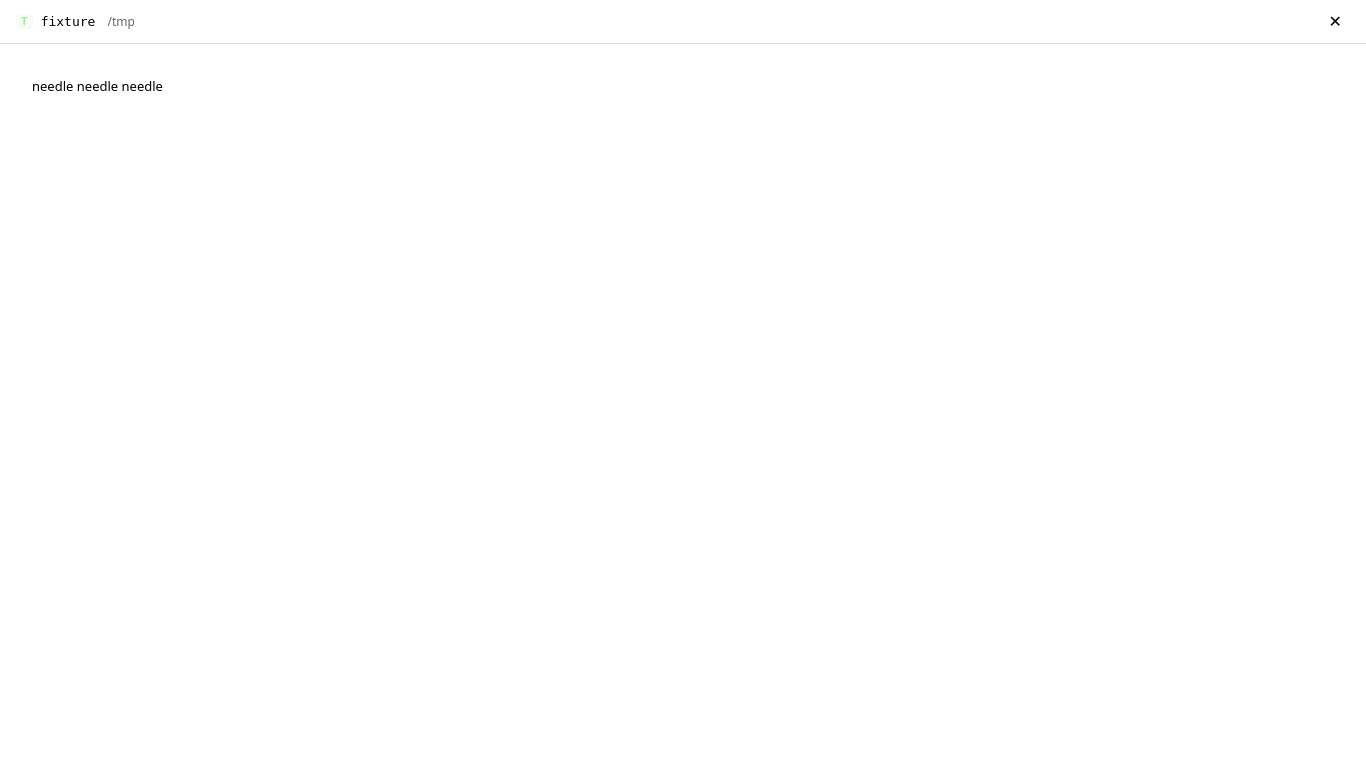
Test: App keyboard handling › preserves native Enter activation on focused .search-next
Press f
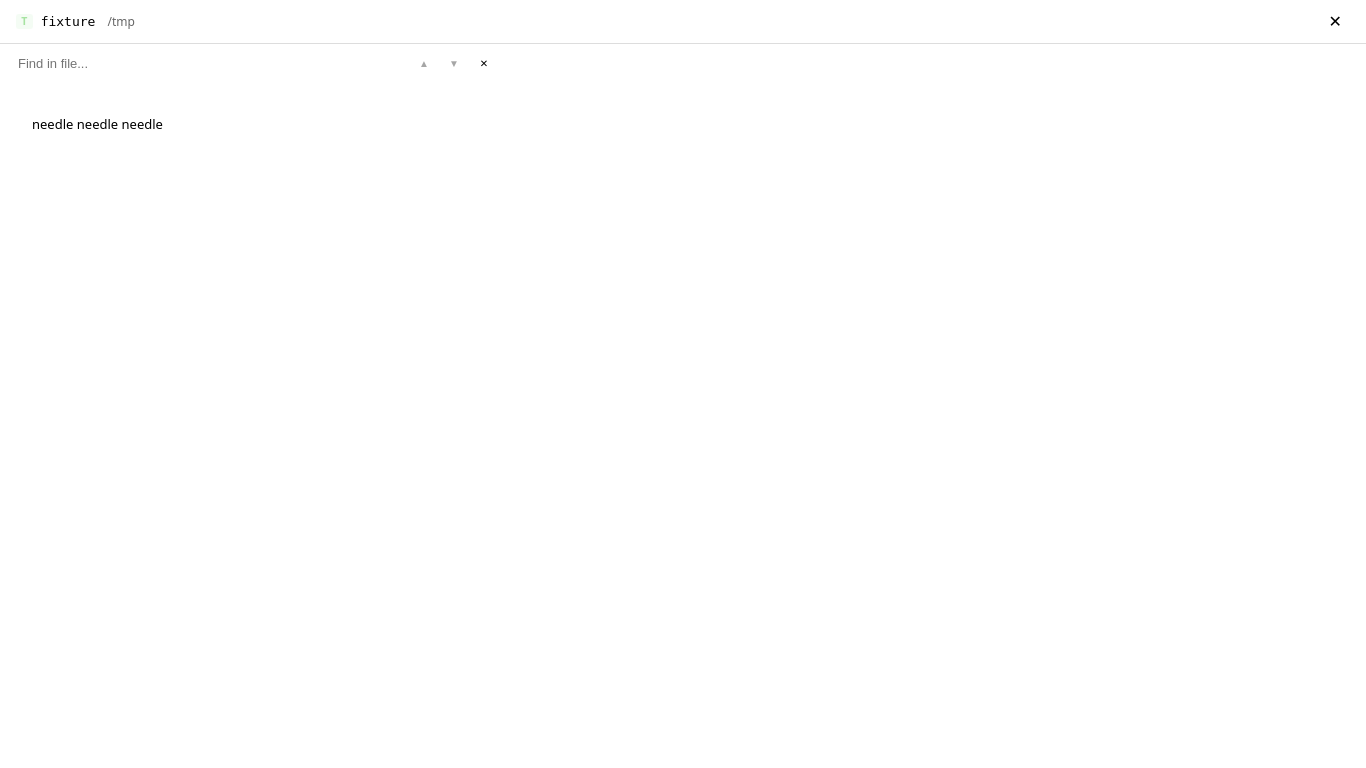
In the field with class "search-input": [170, 63] box top-left (10, 49), bottom-right (330, 77), type "needle"
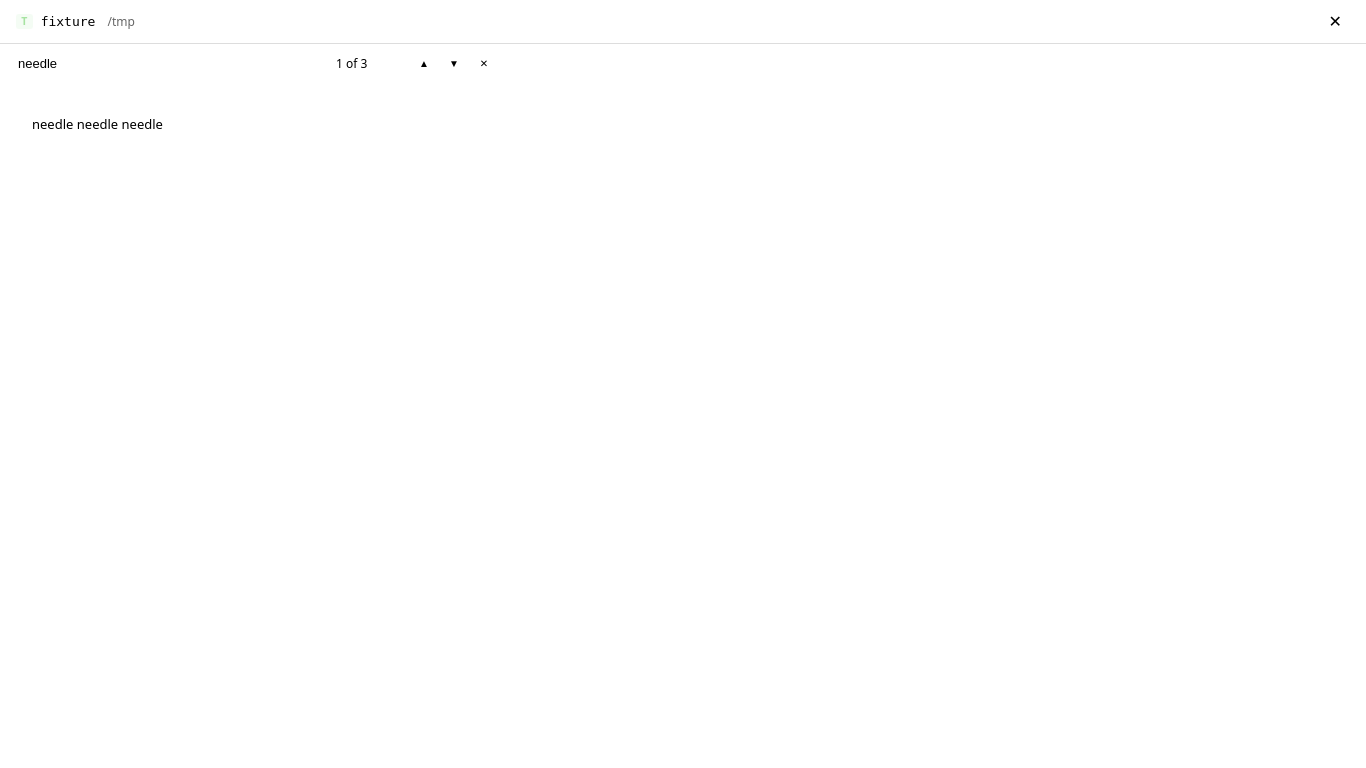
Press Enter in the button with class "search-next", box top-left (442, 51), bottom-right (466, 75)
expect the text "1 of 3" is shown: met, box top-left (336, 54), bottom-right (367, 72)
Click the button with class "search-next": [454, 63] box top-left (442, 51), bottom-right (466, 75)
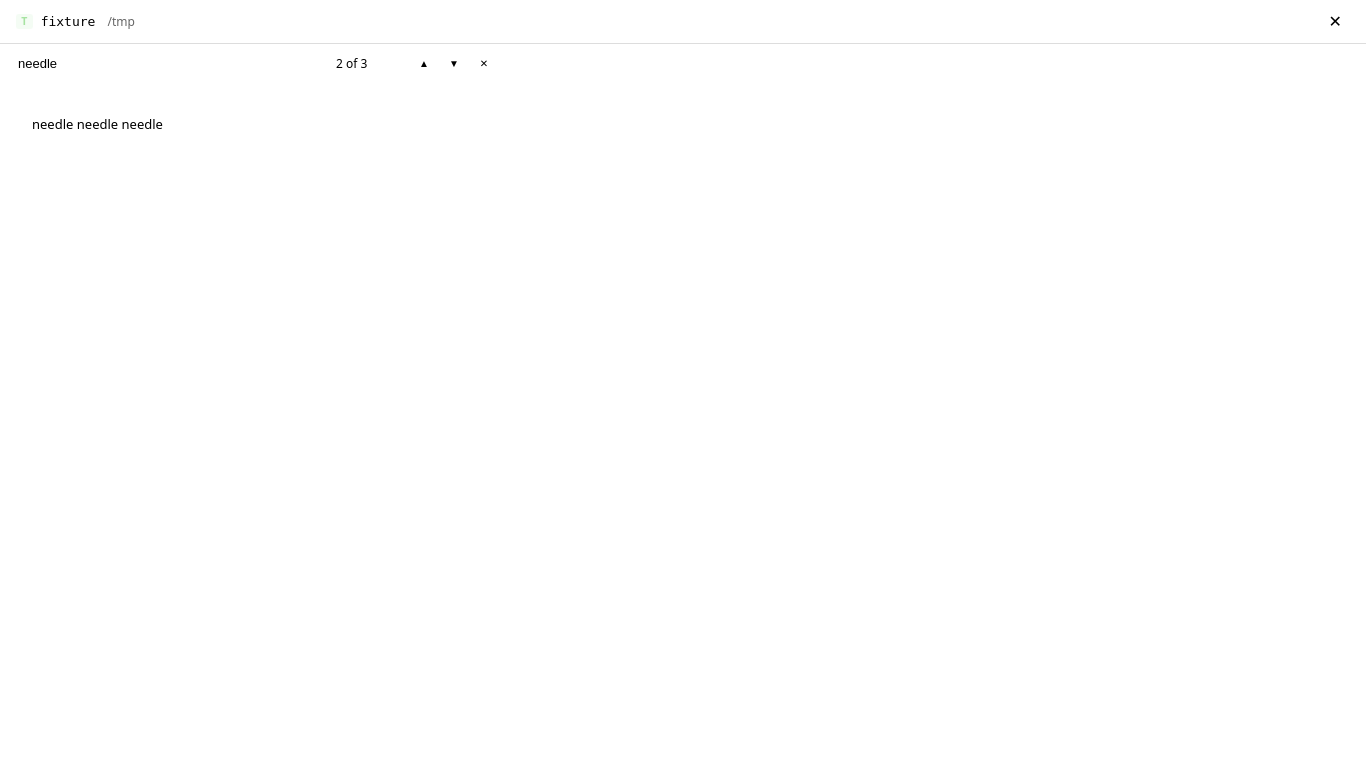
expect the text "2 of 3" is shown: met, box top-left (336, 54), bottom-right (367, 72)
